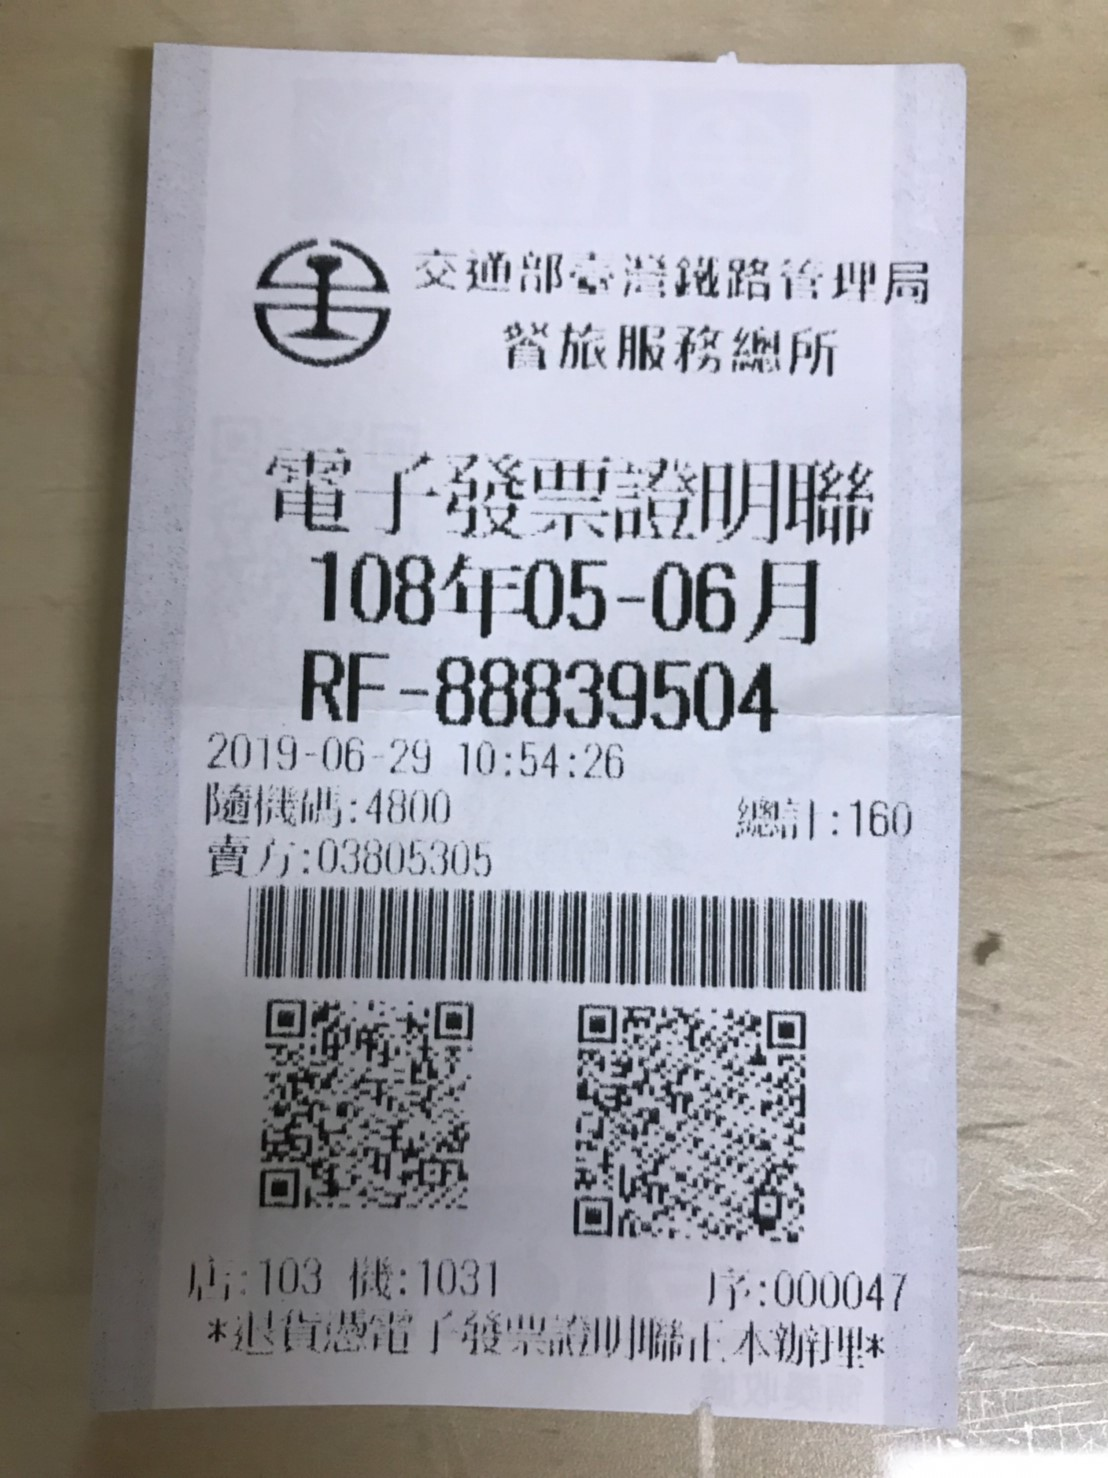Date_New: (306, 539, 824, 649)
Number_New: (428, 649, 789, 736)
